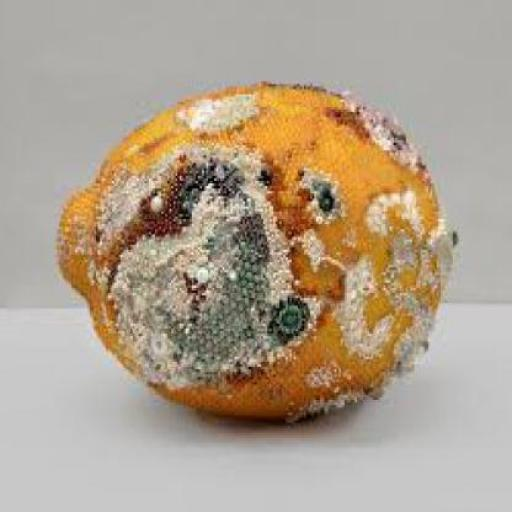biodegradable: (60, 79, 461, 423)
